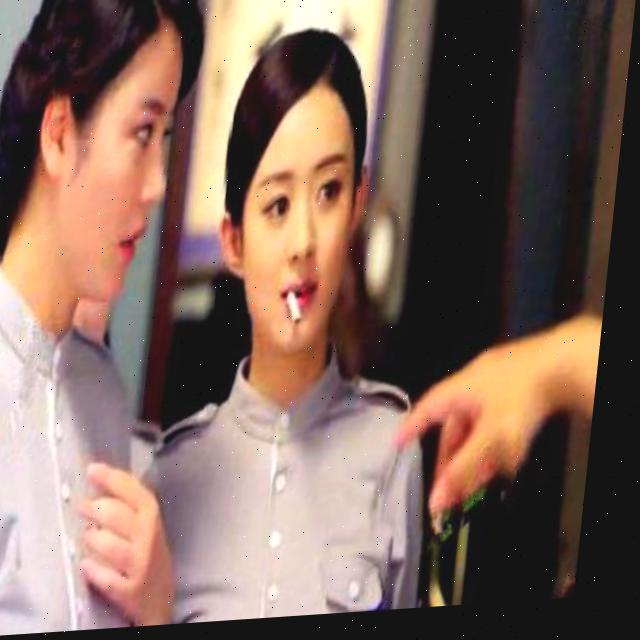cigarette: (288, 294, 312, 336)
